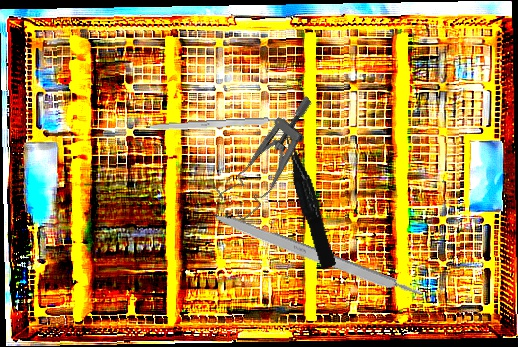Scalpel Handle: (209, 209, 424, 304), (145, 116, 288, 133)
Speculum: (205, 94, 342, 223)
Tissue Forceps: (282, 132, 337, 271)
